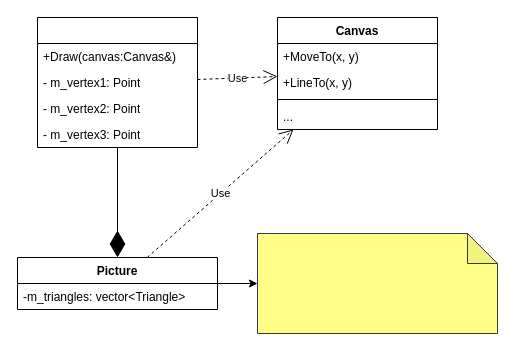
The diagram is 515 pixels wide and 351 high, and some of its shapes have lost their labels. Each missing label, with the box of its shape:
for (auto& t : m_triangles) { t.Draw( canvas ); }: (256, 232, 498, 334)
Triangle: (36, 16, 198, 148)
